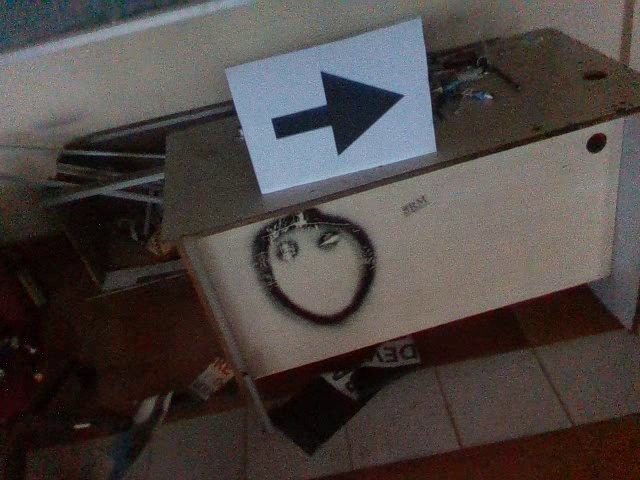Right: (269, 71, 408, 160)
